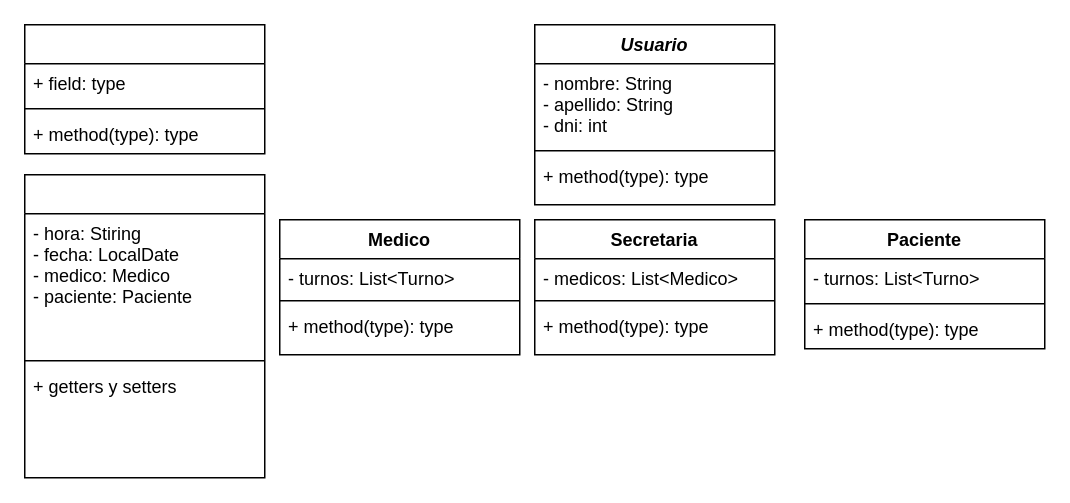
Some shapes in this 1070 by 503 pixel diagram are drawn without their labels. The box of each missing label's shape, as (x1, y1, x2, y2) in pixels:
ResponsableInst: (23, 23, 265, 154)
Turno: (23, 173, 265, 478)
